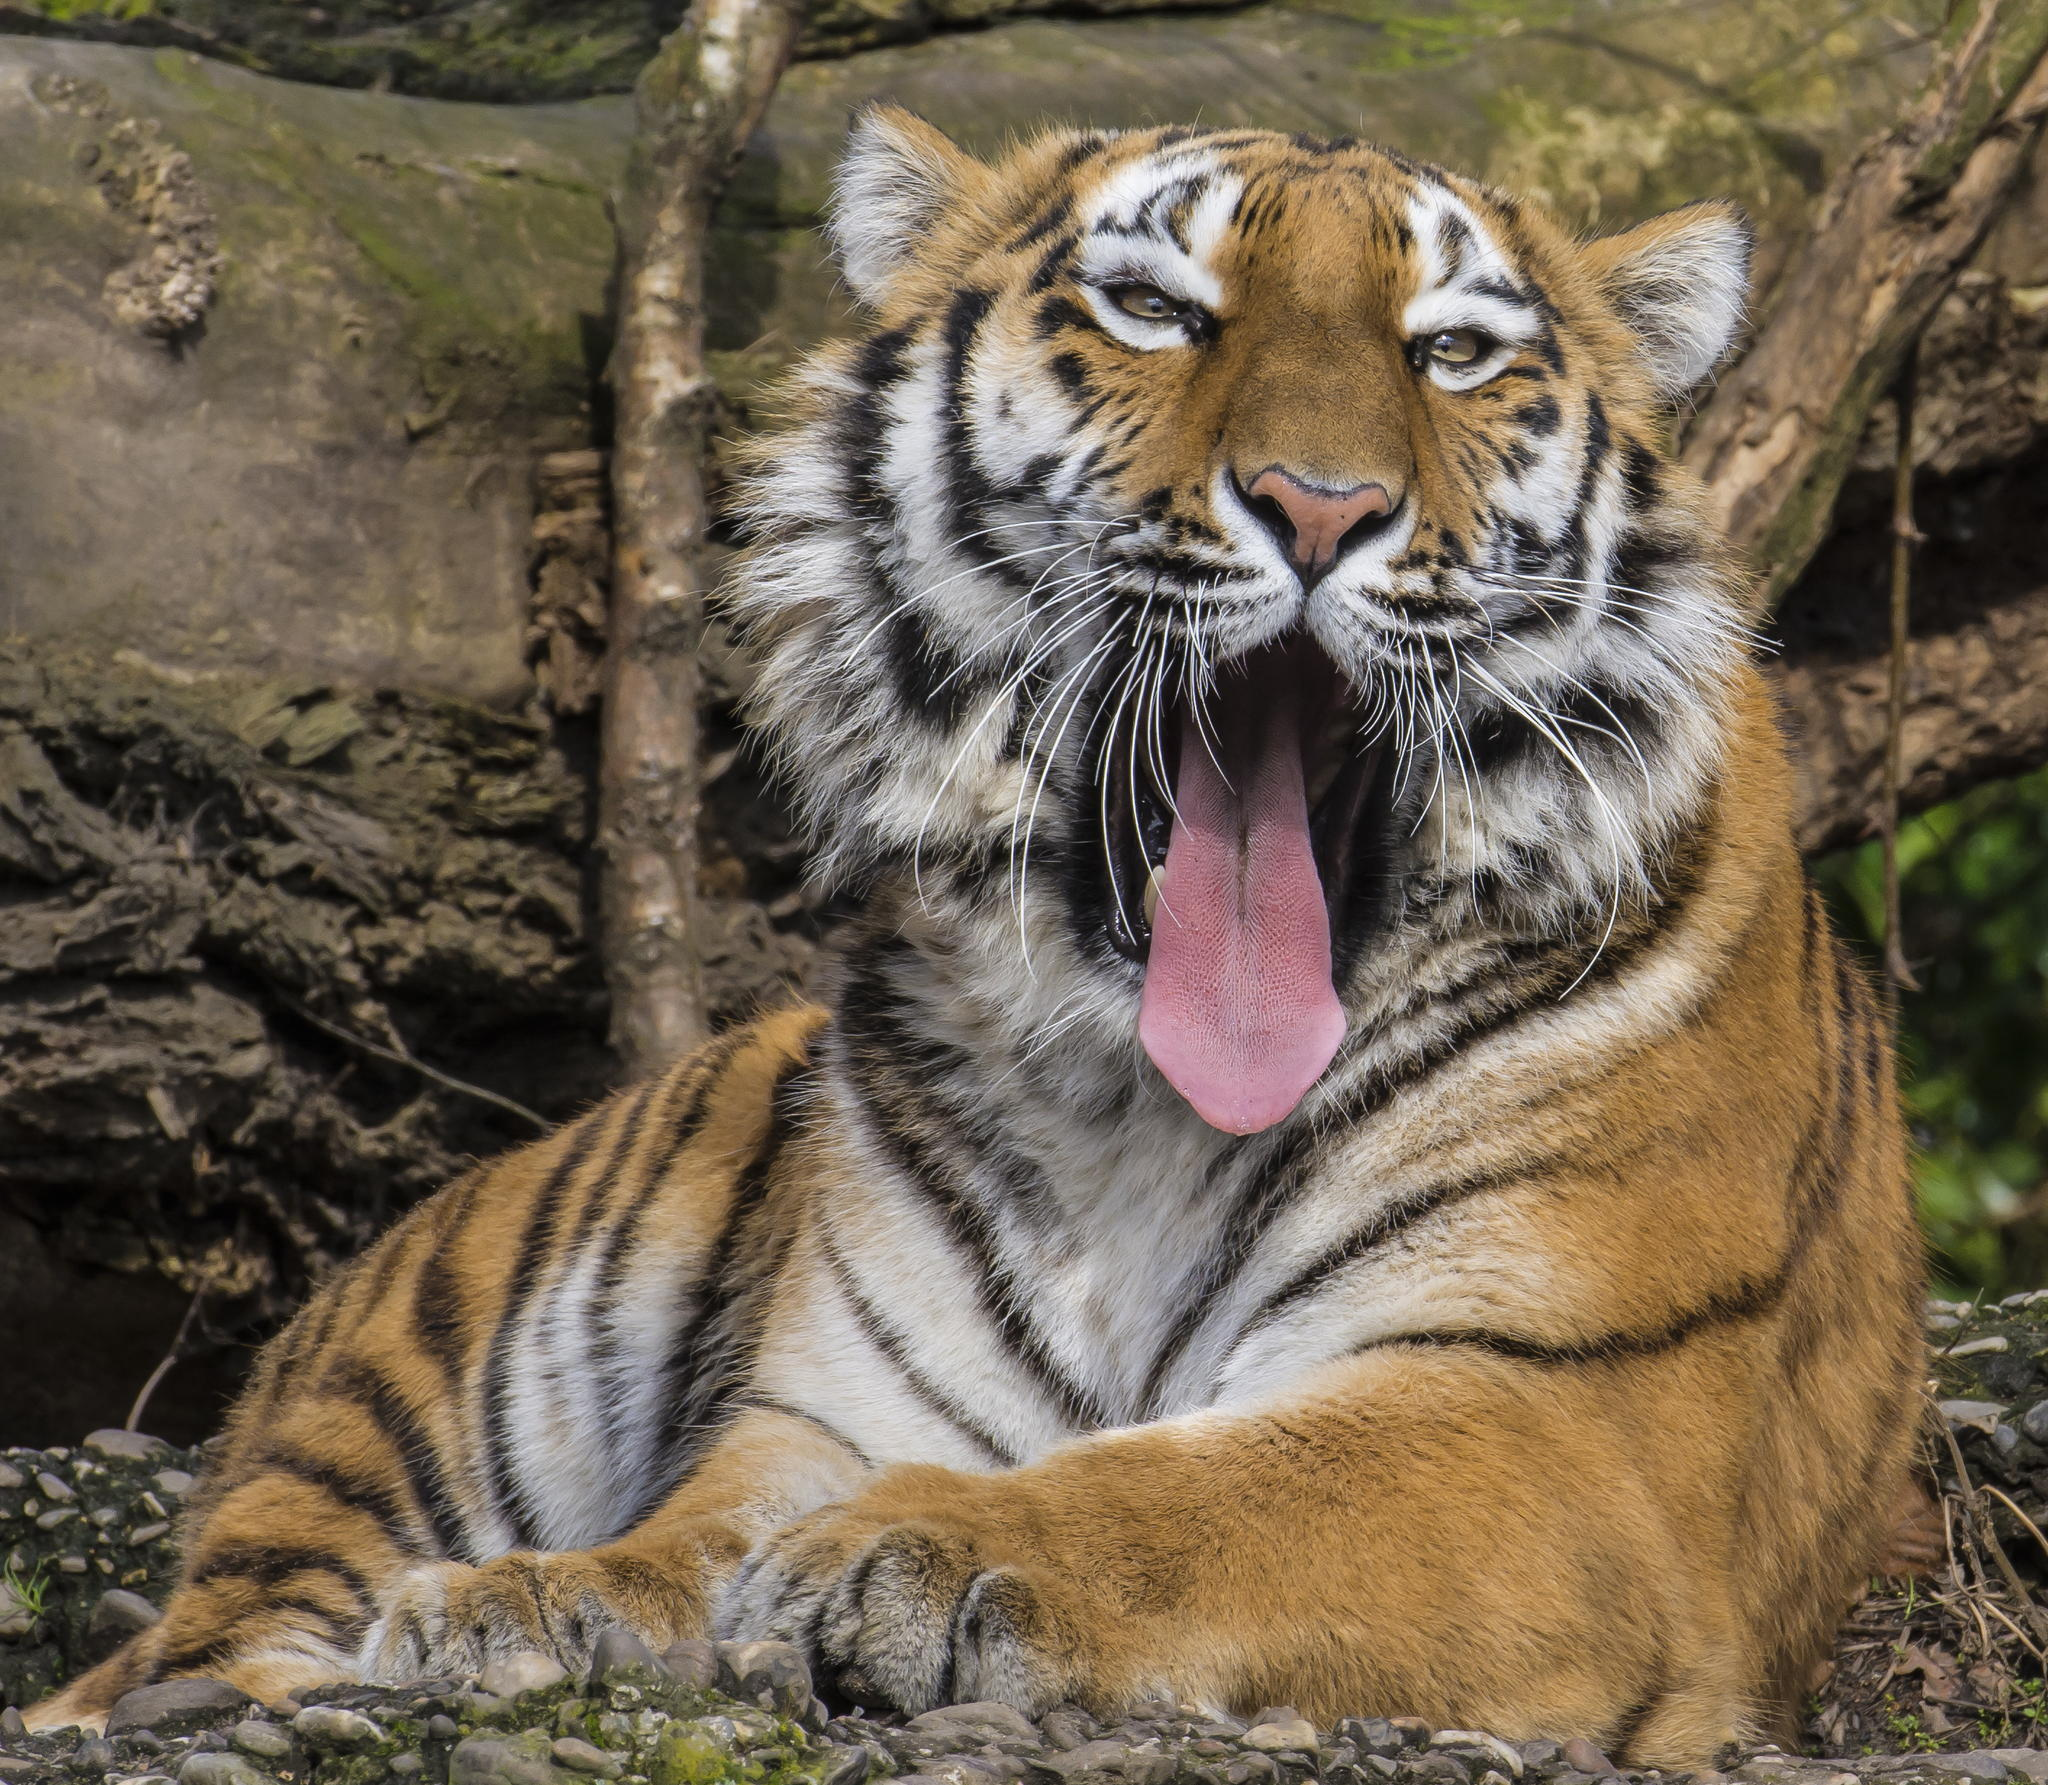tiger: (385, 66, 1849, 1633)
